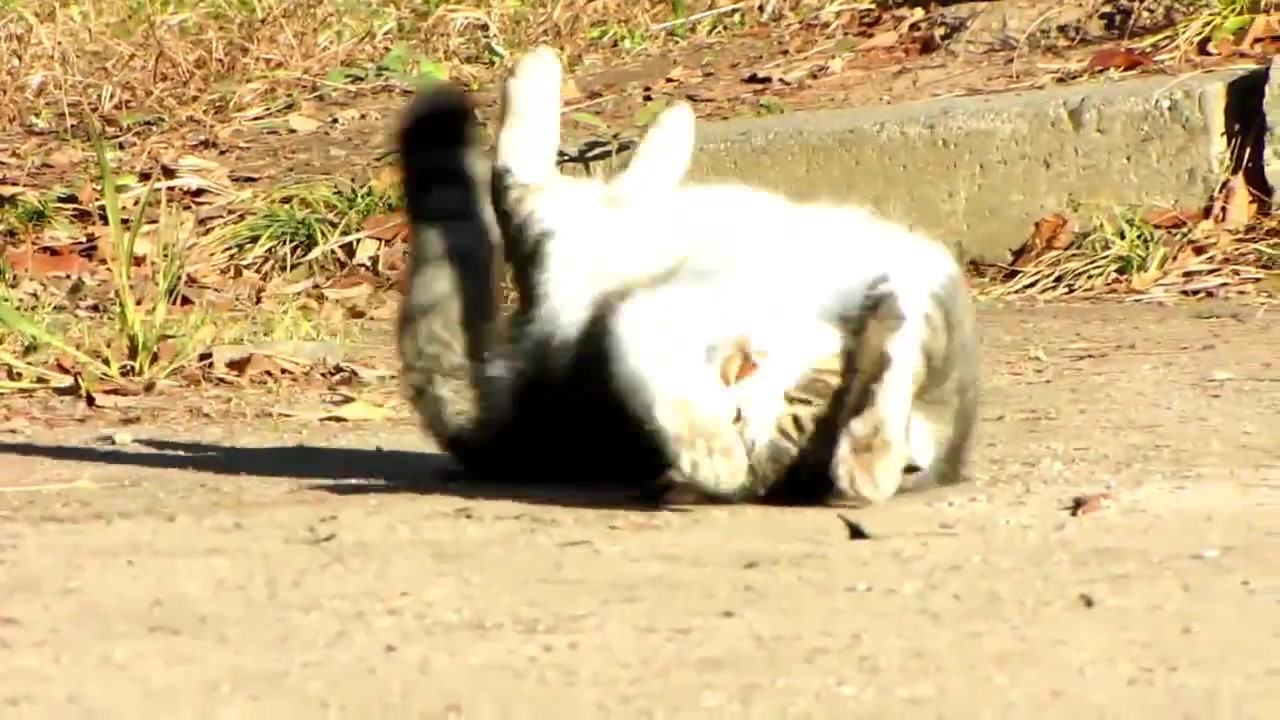cat: (394, 44, 989, 511)
